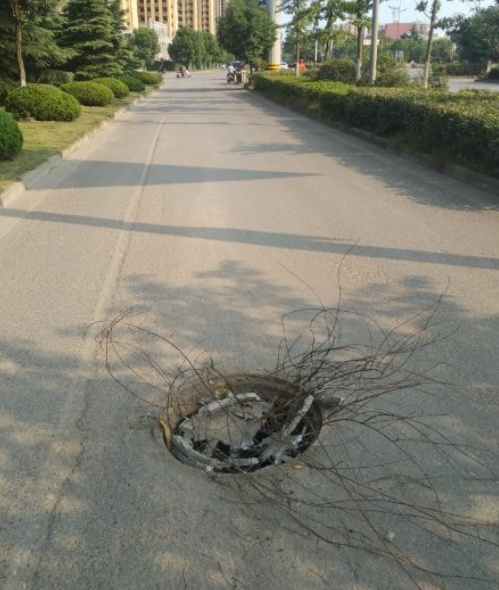broke: (152, 371, 329, 475)
